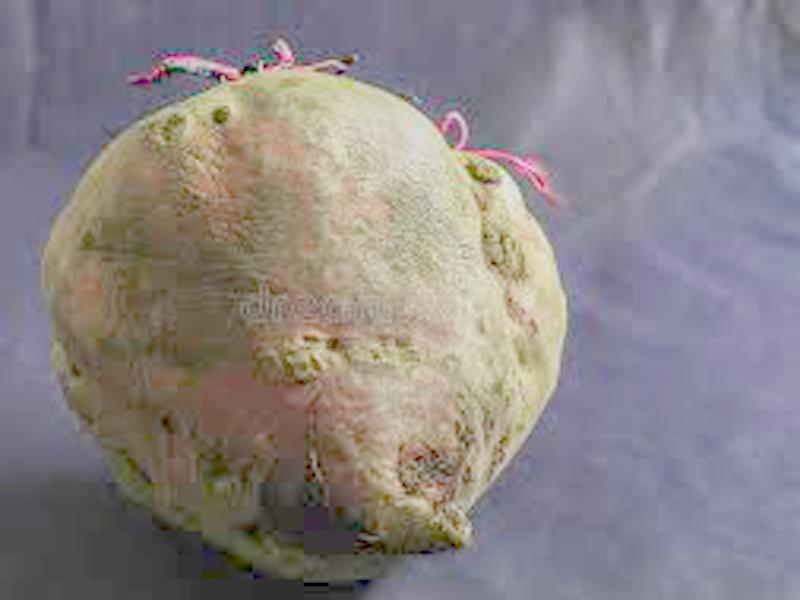Beet: (44, 45, 566, 576)
